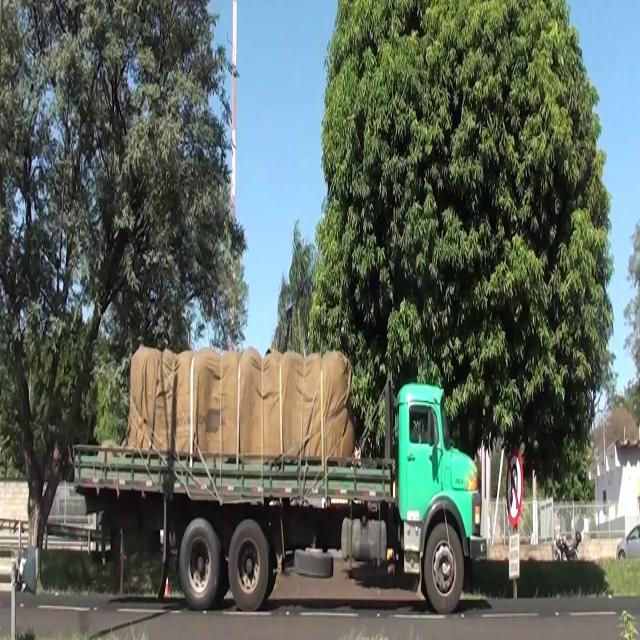-axle: (229, 515, 272, 613), (181, 518, 220, 610), (424, 525, 465, 611)
